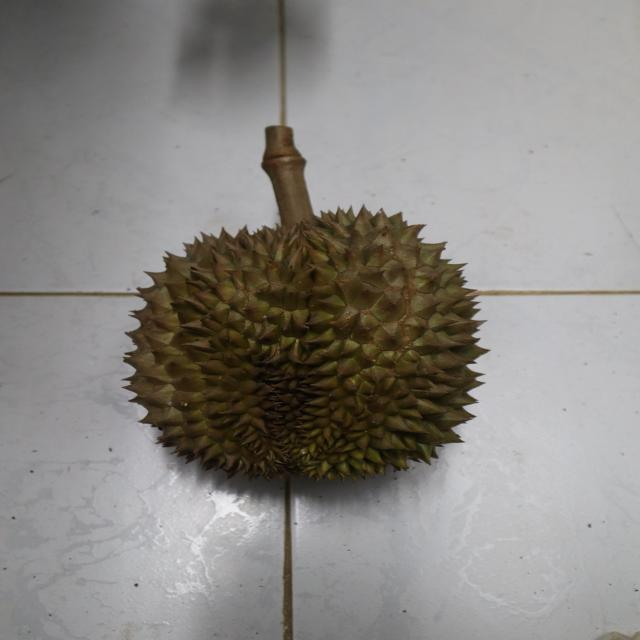mature: (117, 200, 492, 488)
